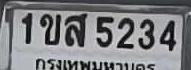1: (21, 12, 31, 43)
2: (116, 16, 133, 48)
3: (137, 18, 154, 48)
4: (159, 18, 175, 49)
5: (95, 16, 113, 46)
A02: (39, 13, 60, 44)
A40: (64, 12, 86, 46)
BKK: (33, 55, 157, 70)
